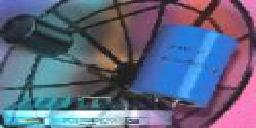Electrolytic Capacitor: (131, 23, 239, 115)
